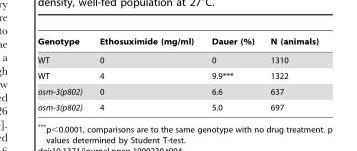table: (37, 36, 318, 111)
table column: (90, 36, 202, 111), (202, 36, 261, 111), (261, 36, 318, 111), (37, 36, 90, 111)
table column header: (37, 36, 318, 50)
table row: (37, 50, 318, 67), (37, 67, 318, 83), (37, 83, 318, 99), (37, 36, 318, 50), (37, 99, 318, 111)
